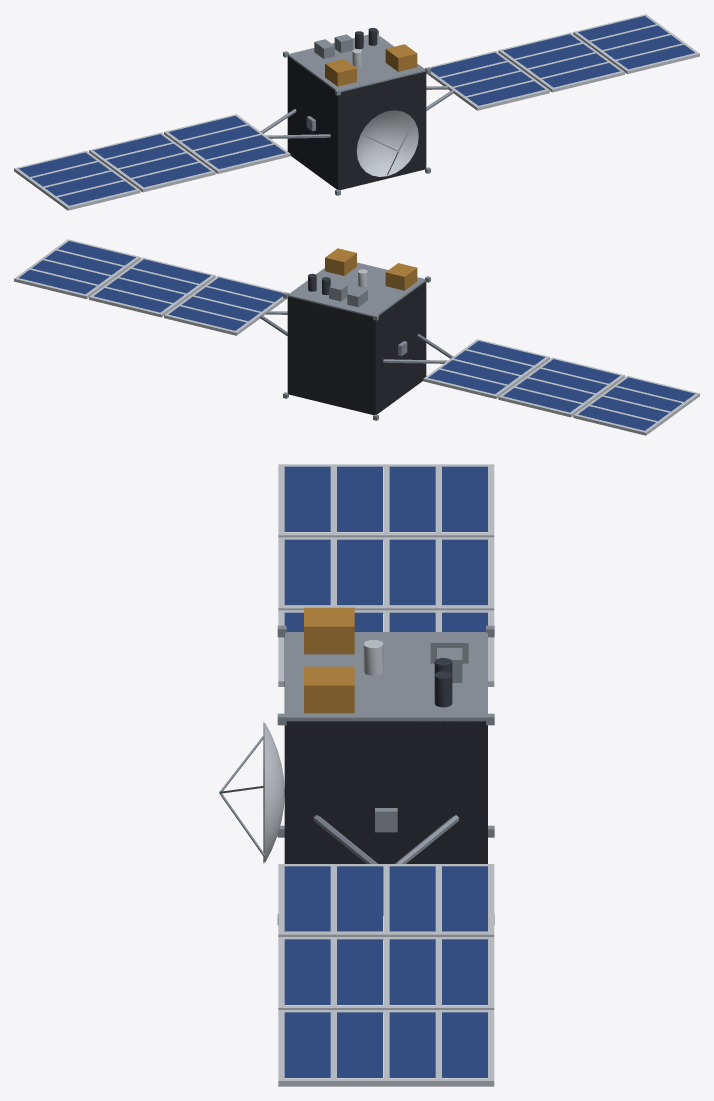
The model's file is hera.glb.
3 views of the same model, one above another, from view 1: azimuth 30°, elevation 25°; view 2: azimuth 150°, elevation 25°; view 3: azimuth 270°, elevation 25° (orthographic). The views are drawn at different scales.
Parts seen in each view (by area): view 1: solar-panel, body, foil; view 2: solar-panel, foil, body; view 3: solar-panel, body, foil.
Boxes of the visible parts, <box> form: solar-panel: <box>18,16,694,205</box>; body: <box>14,14,699,210</box>; foil: <box>287,44,426,190</box>; solar-panel: <box>19,241,695,430</box>; foil: <box>287,248,426,415</box>; body: <box>14,239,699,435</box>; solar-panel: <box>284,466,487,1077</box>; body: <box>219,464,494,1086</box>; foil: <box>284,607,487,915</box>.
Bounding box in the file's own units: 11.5 × 2.11 × 2.17.
